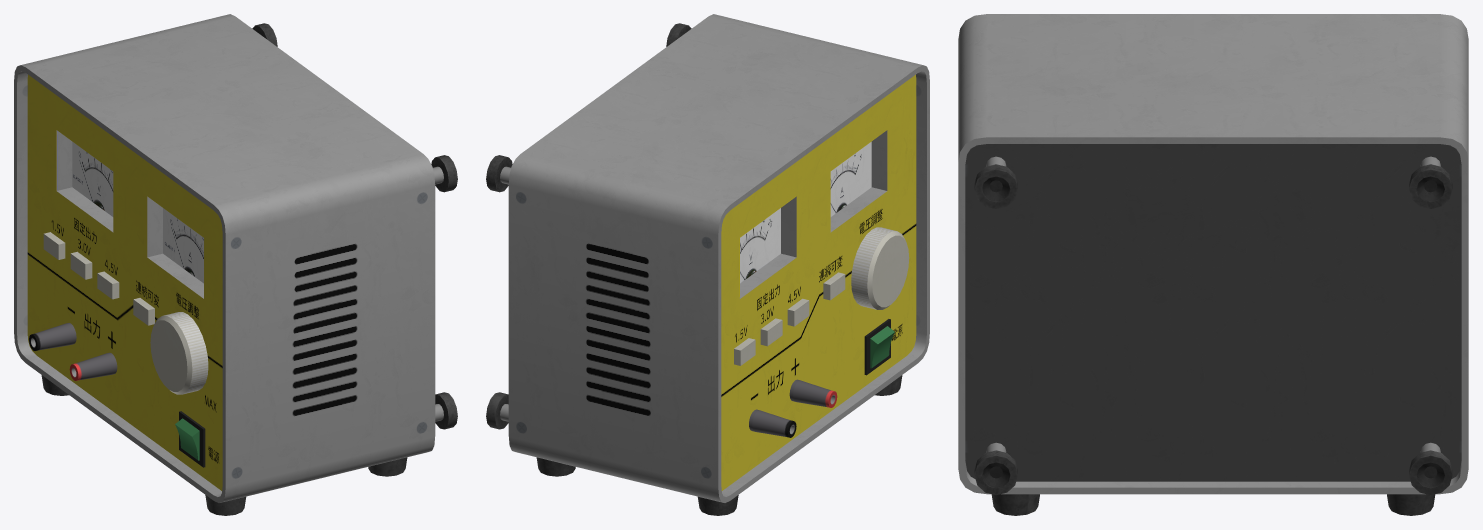
File: SM_Oscillator.fbx
3 views of the same model, side by side, from view 1: azimuth 30°, elevation 25°; view 2: azimuth 150°, elevation 25°; view 3: azimuth 270°, elevation 25° (orthographic). The views are drawn at different scales.
Visible parts, largest first — view 1: SM_Oscillator_LOD0; view 2: SM_Oscillator_LOD0; view 3: SM_Oscillator_LOD0.
Part boxes in pixels (bbox=[...]): SM_Oscillator_LOD0: bbox=[14, 14, 457, 515]; SM_Oscillator_LOD0: bbox=[486, 14, 929, 515]; SM_Oscillator_LOD0: bbox=[958, 14, 1468, 515].
Size of the model in its own units: 25.43 by 35 by 29.
